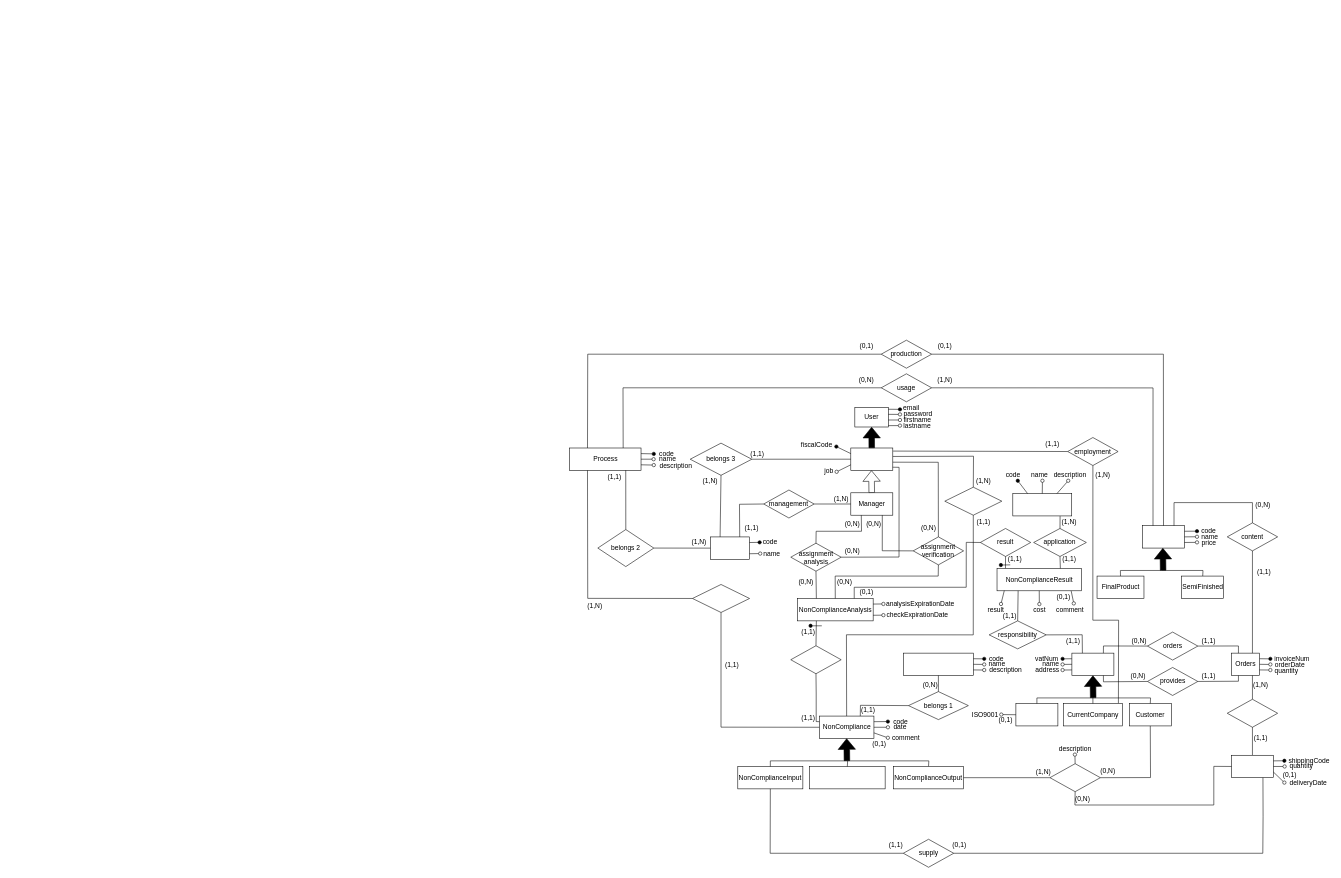
Image size: 1341x878. Some labels were removed from this diagram. Each missing label, with the centre of its shape:
analysis: the point at 815,659
Company: the point at 1092,664
complaint: the point at 1074,777
CorrectiveAction: the point at 1042,504
Department: the point at 730,547
Employee: the point at 871,458
Lot: the point at 1252,766
NonComplianceList: the point at 938,664
NonComplianceProcess: the point at 847,777
origin: the point at 721,598
Product: the point at 1163,536
report: the point at 973,501
shipping: the point at 1252,713
Supplier: the point at 1036,714
